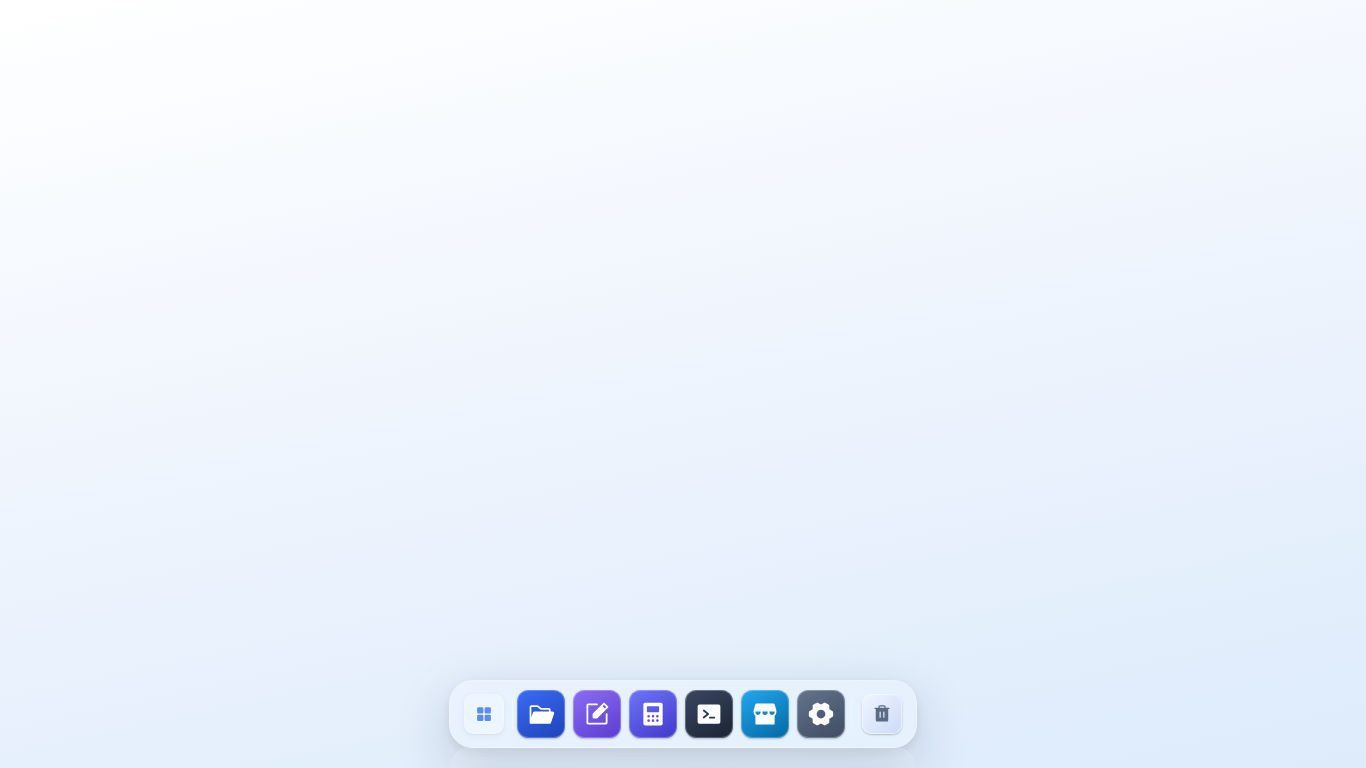
Scenario: Taskbar › keeps the category rail with 最近使用 as the default selection (§32)
Click the button named "开始" at (484, 714), box x1=460 y1=690 x2=508 y2=738
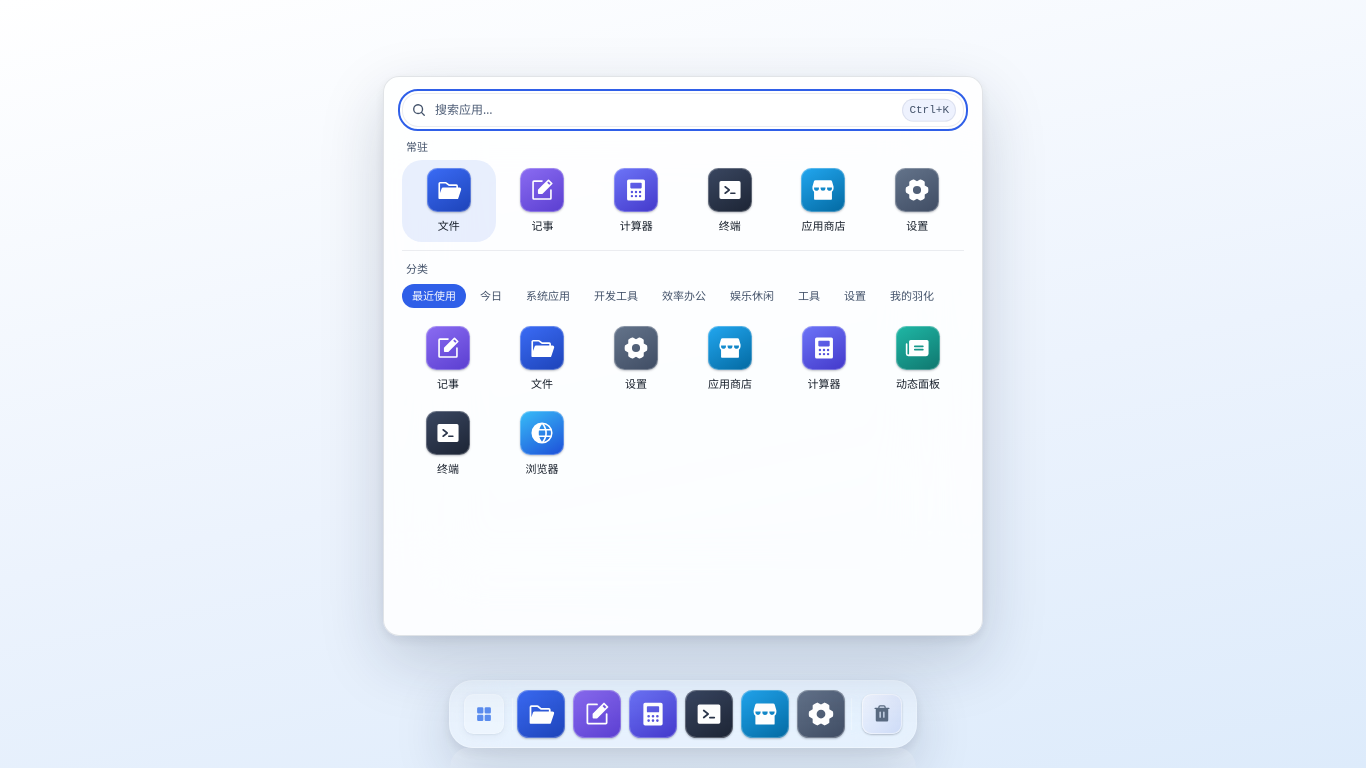
Now the button with test id "launcher-category-system" is shown, box x1=516 y1=284 x2=580 y2=308
Now the button "记事" below "分类" is shown, box x1=402 y1=318 x2=494 y2=400
